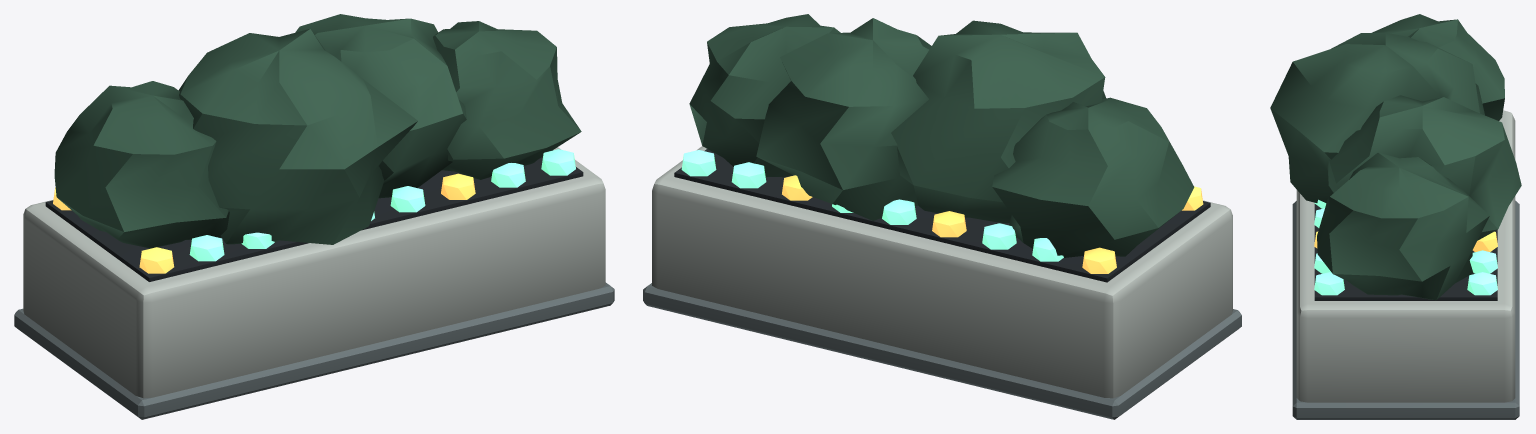
Rendered from planter.lod0.glb.
3 renders of one model, left to right at view 1: azimuth 30°, elevation 25°; view 2: azimuth 150°, elevation 25°; view 3: azimuth 270°, elevation 25°, orthographic. The views are drawn at different scales.
Parts seen in each view (by area): view 1: structure; view 2: structure; view 3: structure.
Boxes of the visible parts, box(x1,y1,x2,y2) form: structure: box(14, 14, 614, 419); structure: box(643, 14, 1241, 419); structure: box(1270, 14, 1521, 419).
Bounding box in the file's own units: 3.61 × 2.05 × 1.84.
